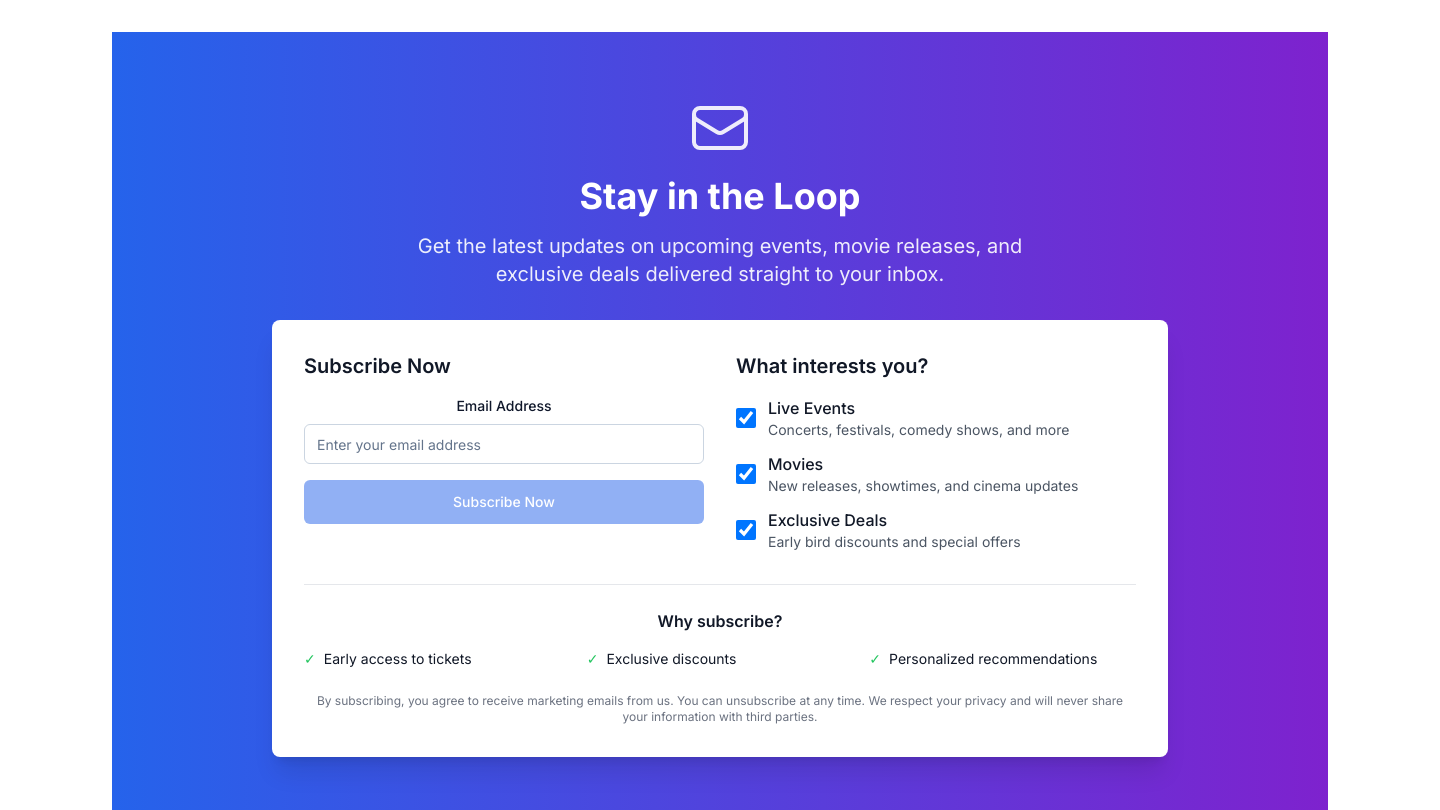
Test: NewsletterSignup › enables submit button when email is provided
The width and height of the screenshot is (1440, 810).
Type "test@example.com" into the field labelled "Email Address". click: (504, 444)
box: 304,424 -> 704,464
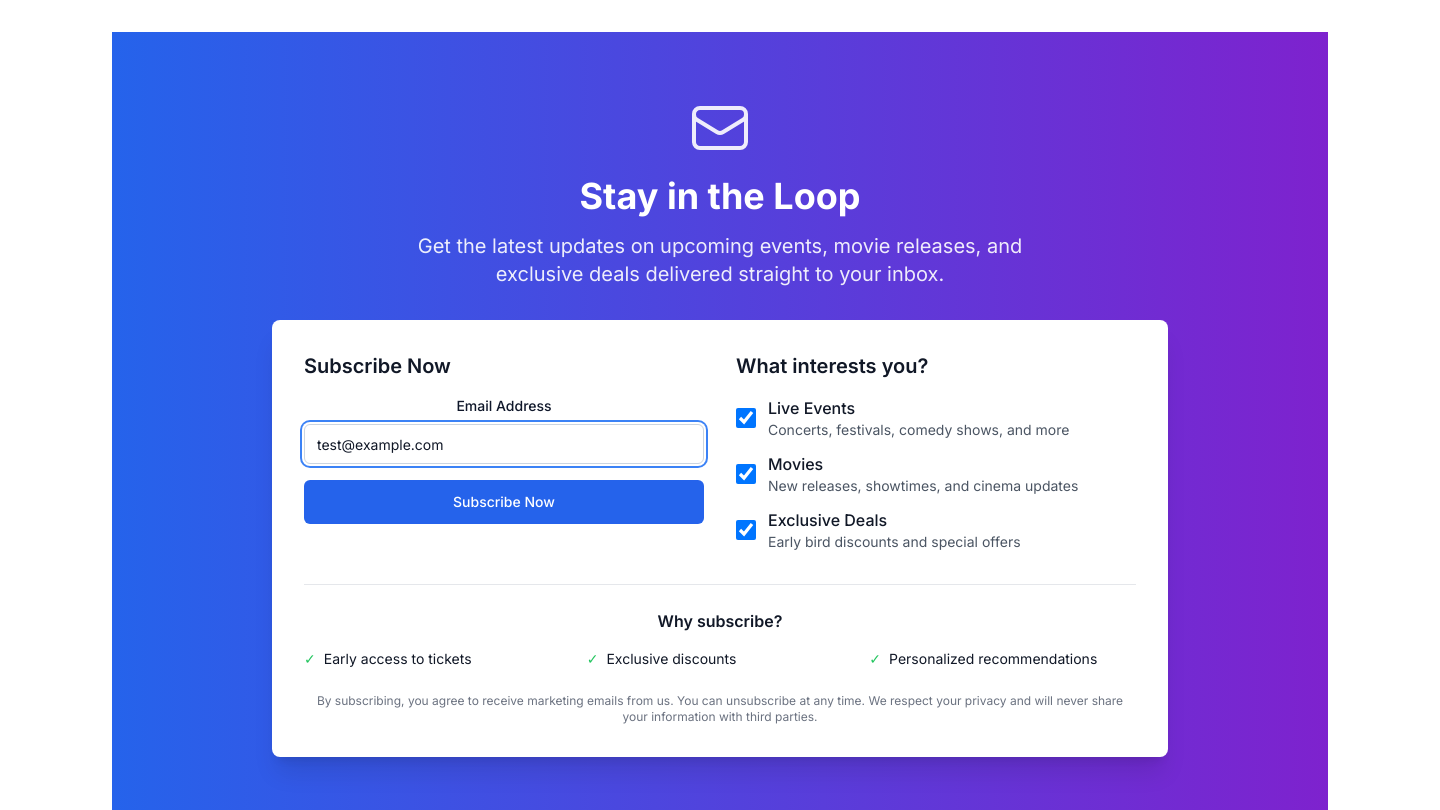
Result: the button "Subscribe Now" is enabled at 304,480 -> 704,524
